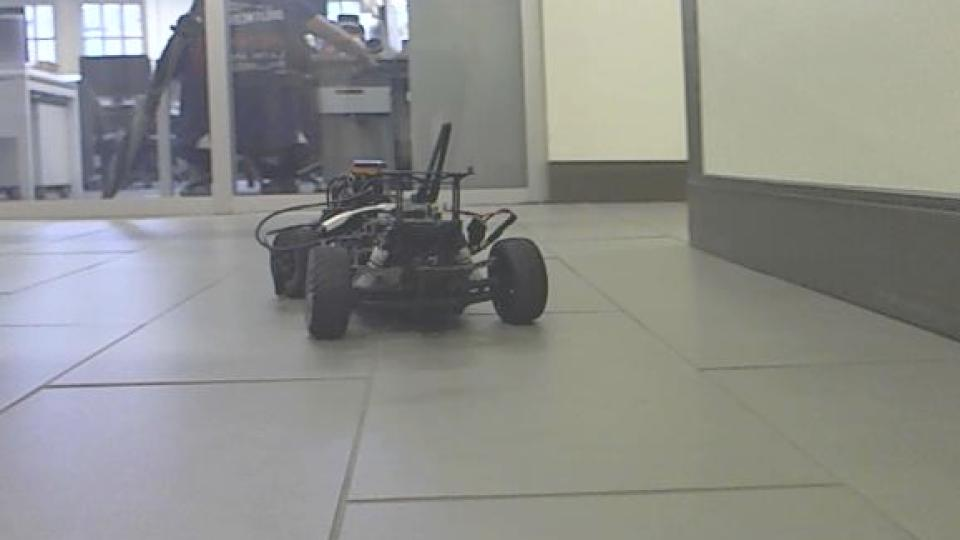car: (253, 120, 553, 343)
